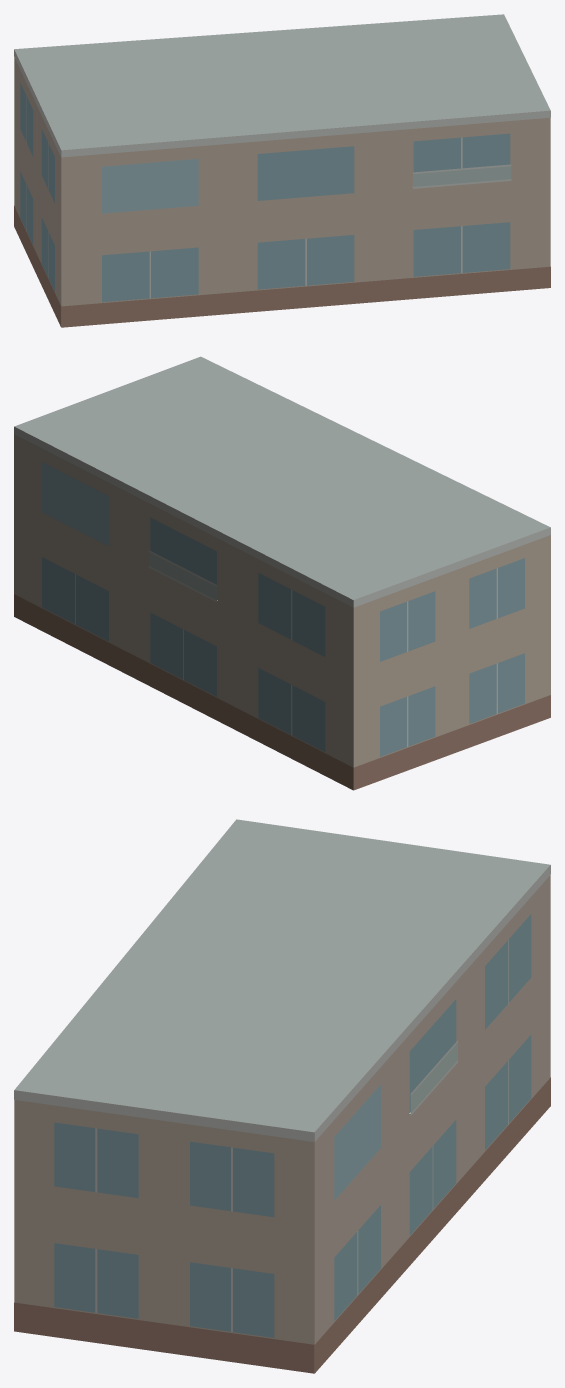
Rendered from survey-upis-32656403.glb.
3 renders of one model, top to bottom at view 1: azimuth 30°, elevation 25°; view 2: azimuth 150°, elevation 25°; view 3: azimuth 270°, elevation 25°, orthographic. The views are drawn at different scales.
Parts seen in each view (by area): view 1: survey-upis-32656403.tmp; view 2: survey-upis-32656403.tmp; view 3: survey-upis-32656403.tmp.
Boxes of the visible parts, left/top/right/bottom form: survey-upis-32656403.tmp: left=14, top=14, right=550, bottom=327; survey-upis-32656403.tmp: left=14, top=356, right=550, bottom=790; survey-upis-32656403.tmp: left=14, top=819, right=550, bottom=1373.
Bounding box in the file's own units: 16.99 × 6.1 × 12.31.
